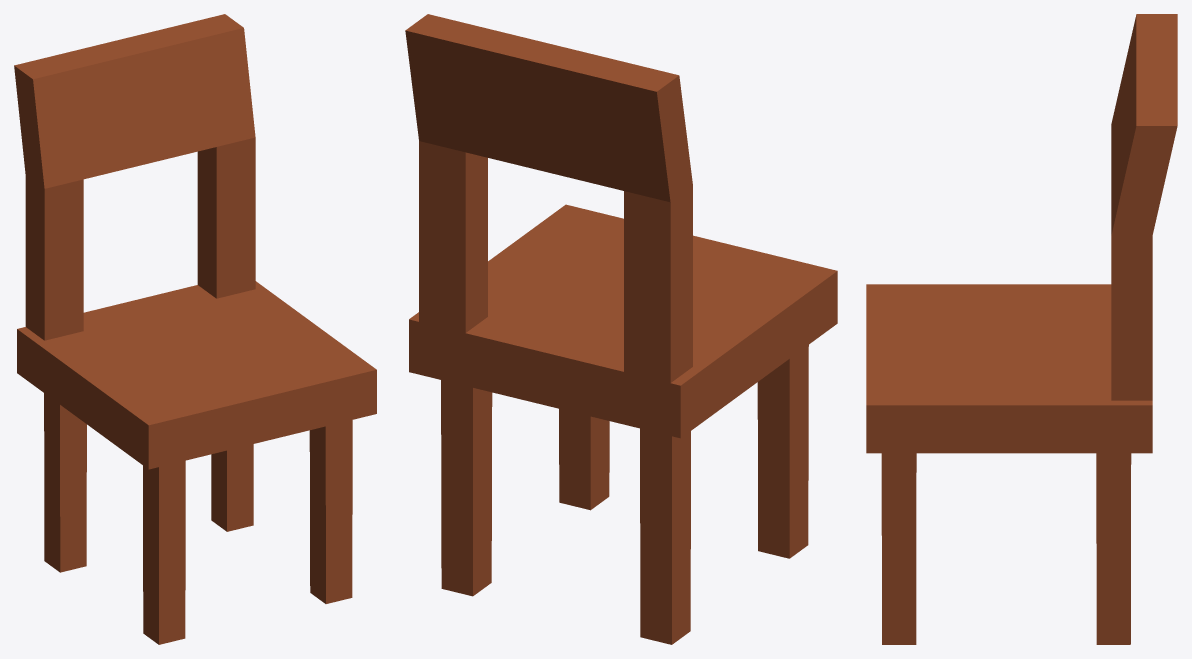
Rendered from Prop_Furniture_Fantasy_Dungeon_Chair_Wooden_01.FBX.
3 views of the same model, side by side, from view 1: azimuth 30°, elevation 25°; view 2: azimuth 150°, elevation 25°; view 3: azimuth 270°, elevation 25° (orthographic). The views are drawn at different scales.
Visible parts, largest first — view 1: Prop_Furniture_Fantasy_Dungeon_Chair_Wooden_01; view 2: Prop_Furniture_Fantasy_Dungeon_Chair_Wooden_01; view 3: Prop_Furniture_Fantasy_Dungeon_Chair_Wooden_01.
Part boxes in pixels (x1,y1,x2,y2): Prop_Furniture_Fantasy_Dungeon_Chair_Wooden_01: [14, 14, 376, 644]; Prop_Furniture_Fantasy_Dungeon_Chair_Wooden_01: [405, 14, 837, 644]; Prop_Furniture_Fantasy_Dungeon_Chair_Wooden_01: [866, 14, 1177, 644].
Size of the model in its own units: 588 by 1188 by 640.
